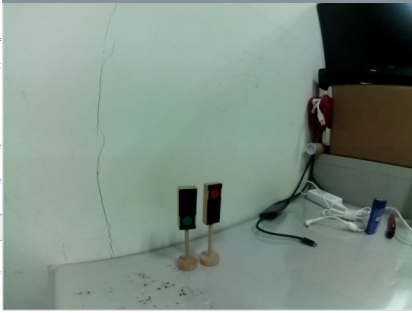Green: (175, 185, 199, 232)
Red: (201, 179, 222, 227)
